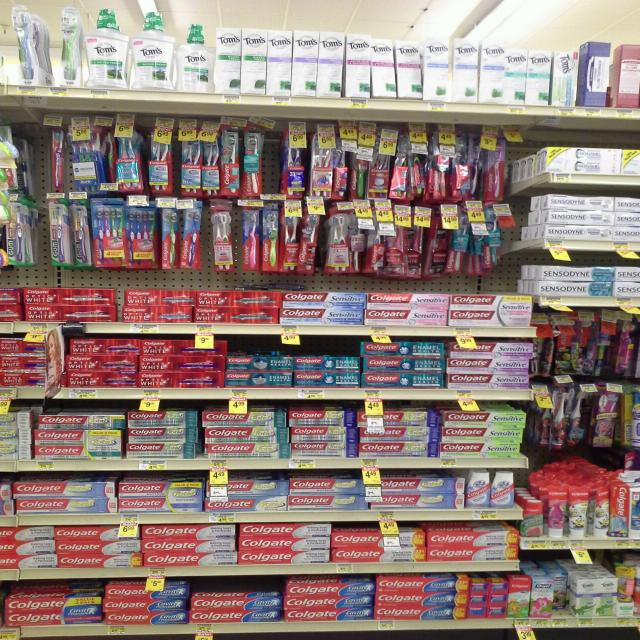unorganised: (369, 35, 423, 99), (408, 220, 450, 277), (37, 412, 124, 431), (66, 336, 141, 357), (592, 487, 613, 538), (552, 574, 568, 614)
